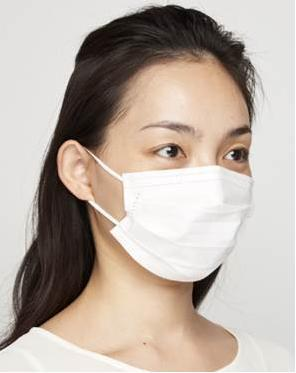mask: (110, 164, 253, 284)
